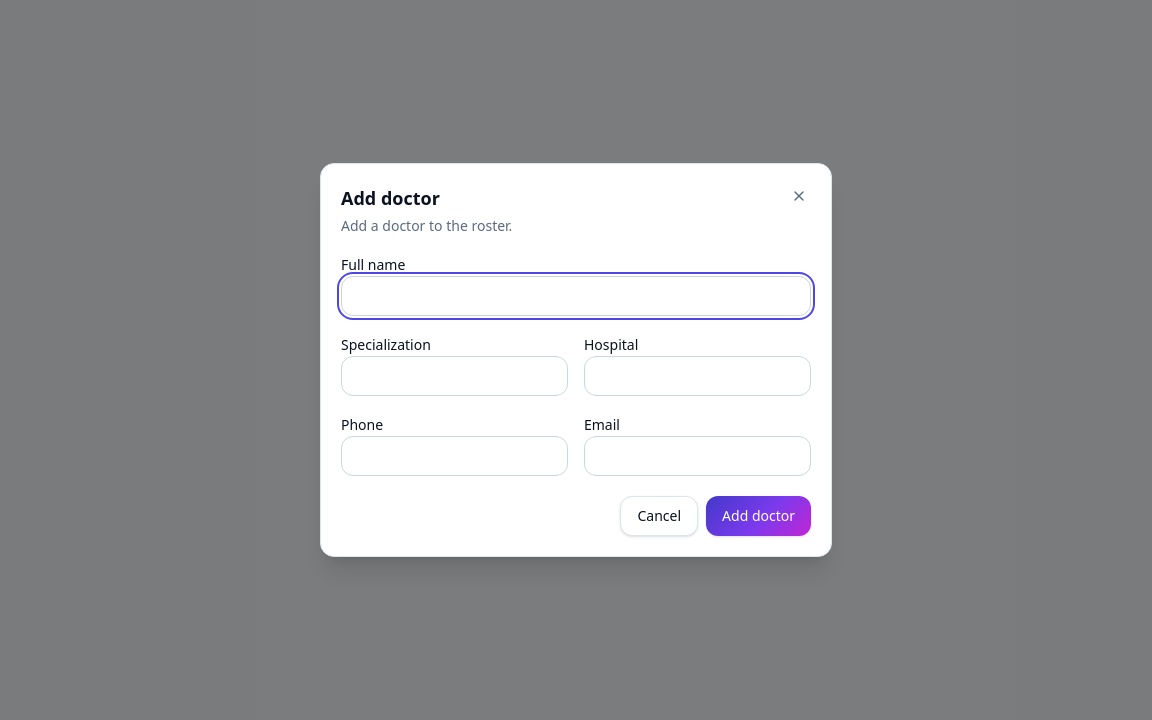
Test: doctor form › attaches a server field error to that field
In the field labelled "Full name": [576, 296] box [341,276,811,316], type "Alice Nguyen"
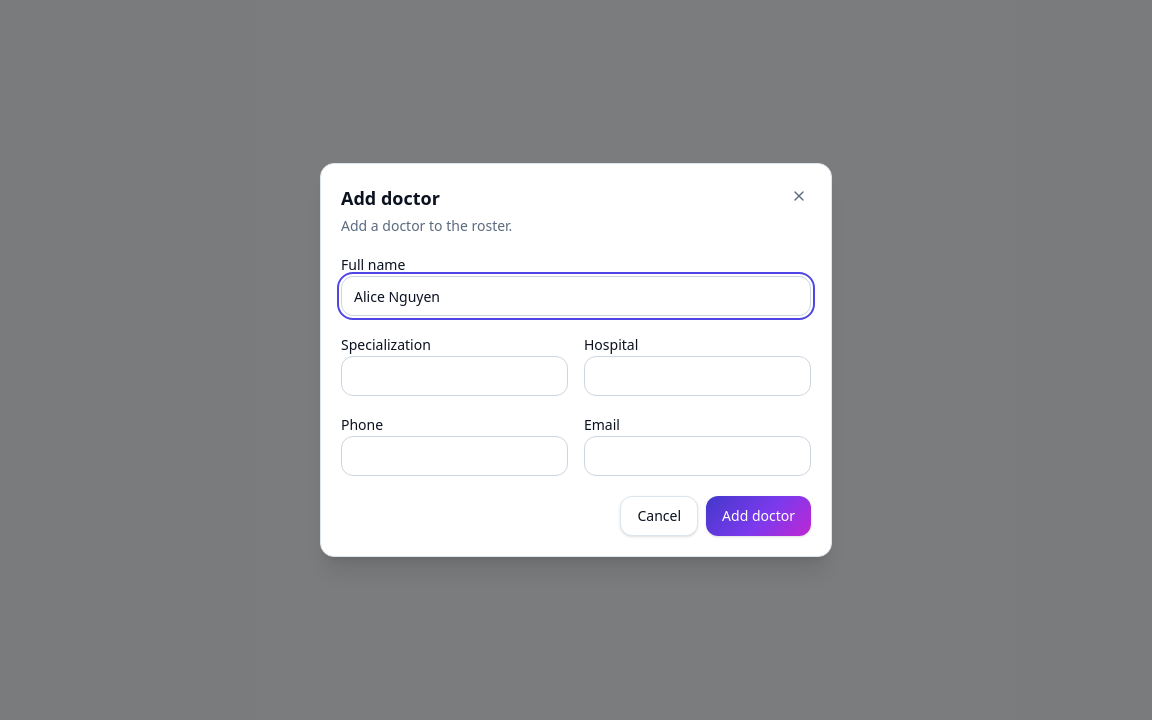
In the field labelled "Specialization": [454, 376] box [341,356,568,396], type "Cardiology"
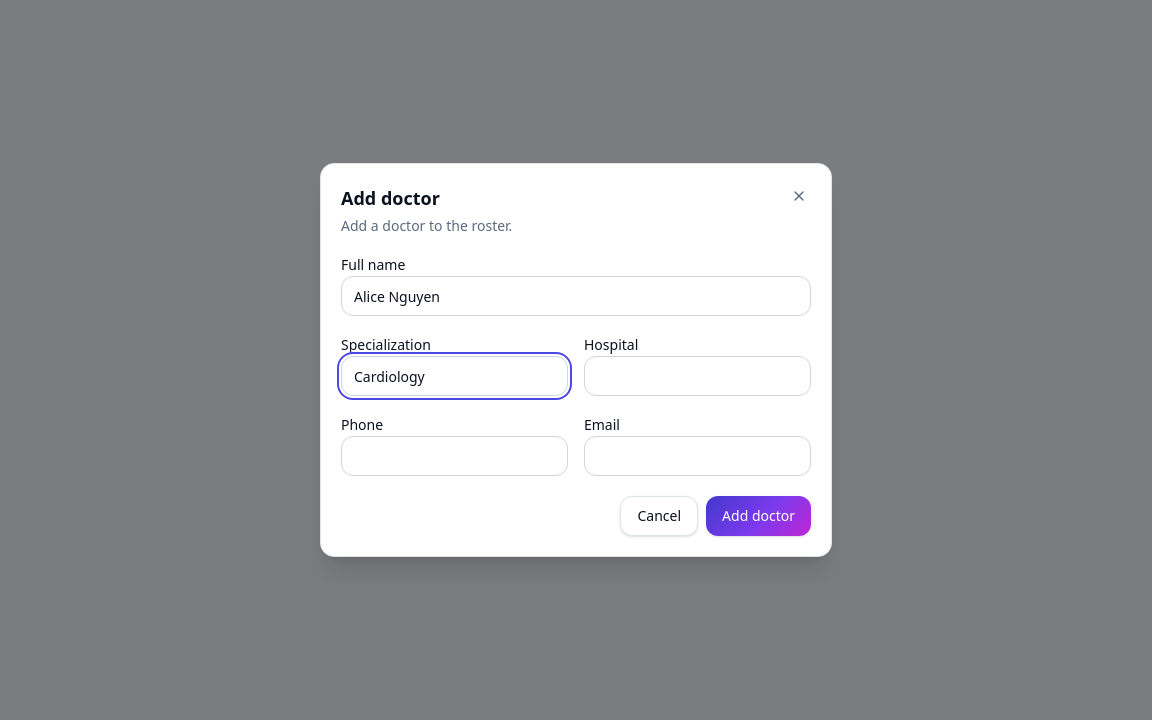
In the field labelled "Hospital": [698, 376] box [584,356,811,396], type "St. Mary General"
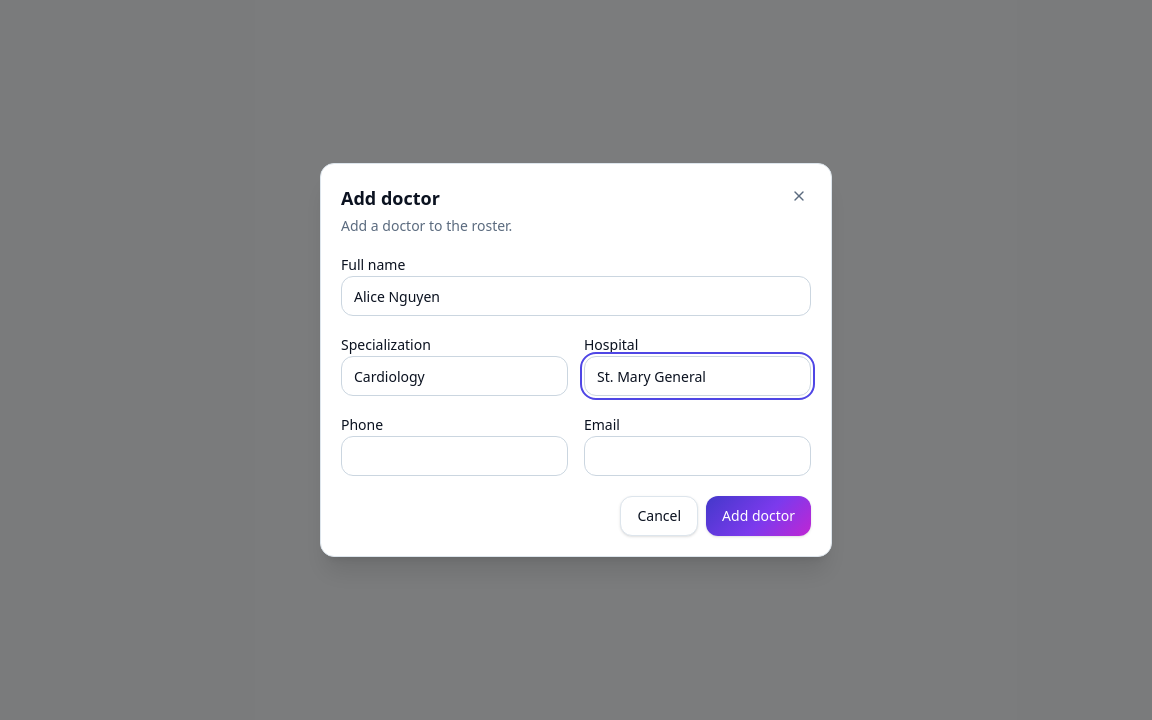
In the field labelled "Phone": [454, 456] box [341,436,568,476], type "+1-555-0100"
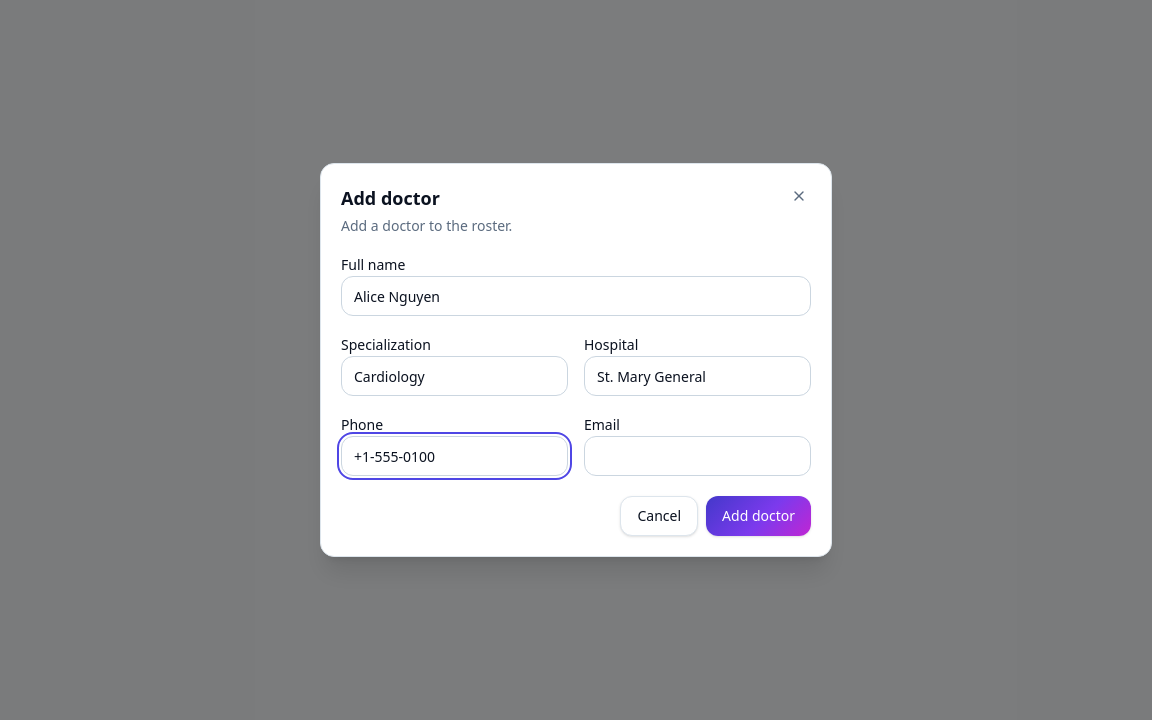
In the field labelled "Email": [698, 456] box [584,436,811,476], type "alice@hospital.test"
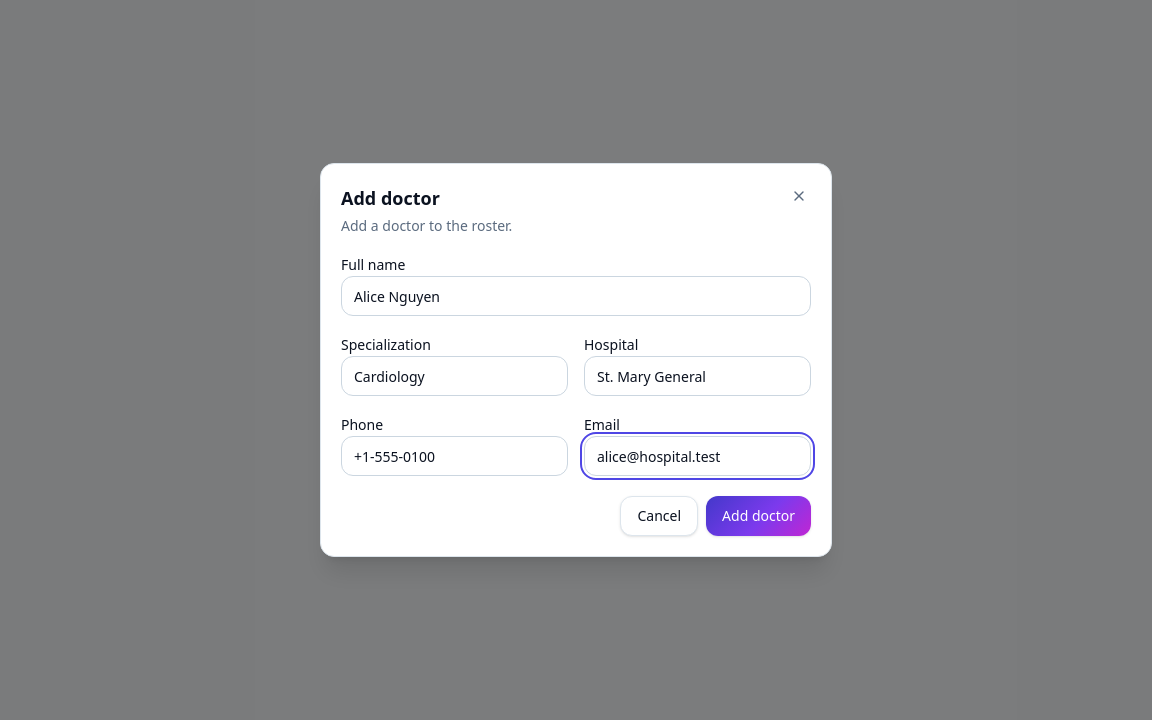
Click the button "Add doctor": [759, 516] box [706,496,811,536]
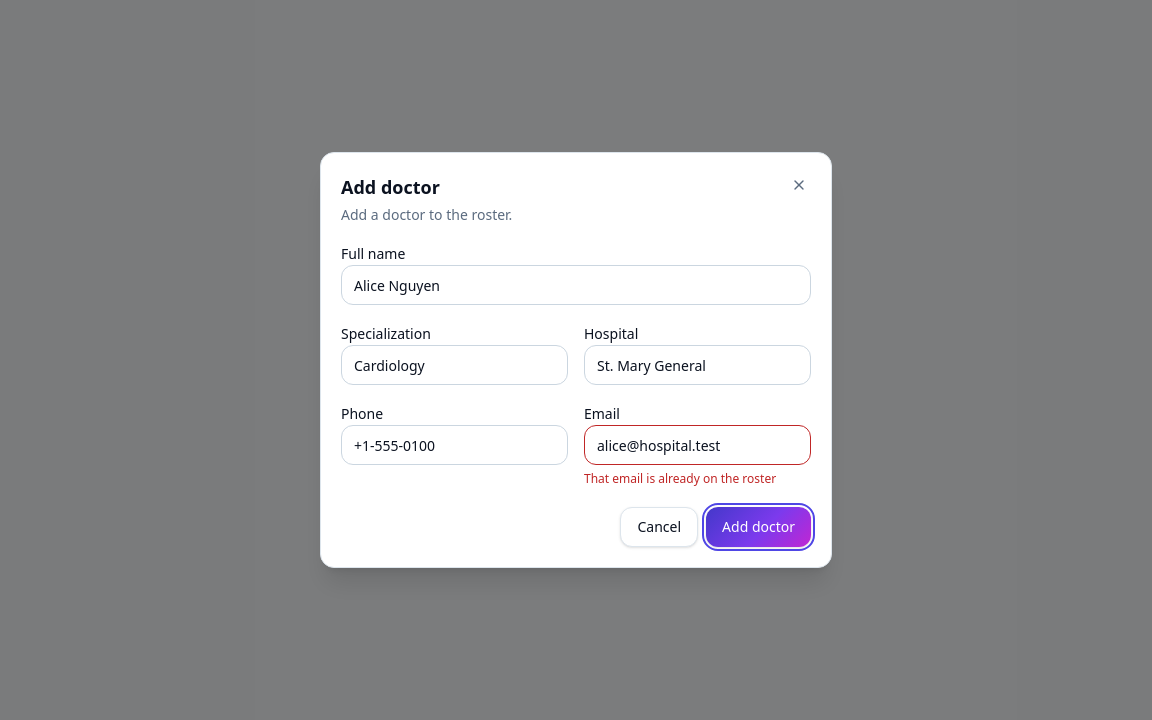
Expected: the text "That email is already on the roster" is shown, [584,470,776,487]
